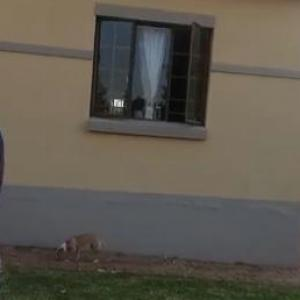follow: (0, 31, 13, 299)
null: (50, 228, 116, 266)
